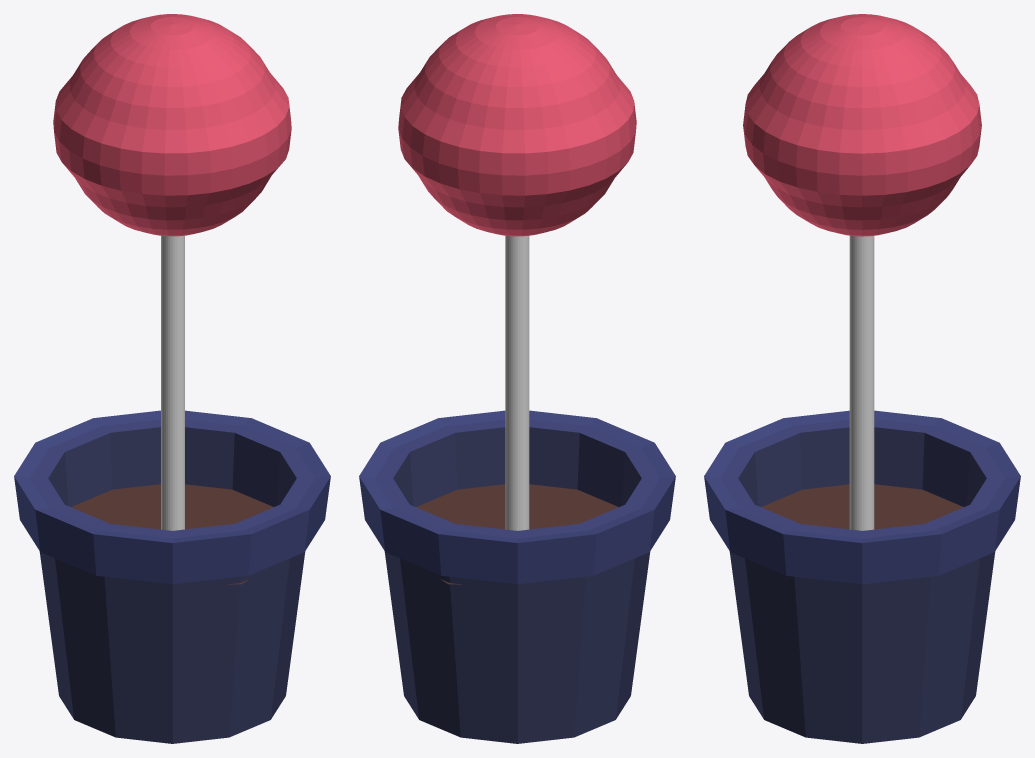
Rendered from celina_plant_template.fbx.
3 renders of one model, left to right at view 1: azimuth 30°, elevation 25°; view 2: azimuth 150°, elevation 25°; view 3: azimuth 270°, elevation 25°, orthographic.
Visible parts, largest first — view 1: Cylinder, Sphere, Cylinder.001, Plane; view 2: Cylinder, Sphere, Cylinder.001, Plane; view 3: Cylinder, Sphere, Cylinder.001, Plane.
Part boxes in pixels (x1,y1,x2,y2): Cylinder: [14, 410, 330, 743]; Sphere: [53, 14, 291, 236]; Cylinder.001: [161, 235, 184, 530]; Plane: [71, 484, 273, 584]; Cylinder: [359, 410, 675, 743]; Sphere: [398, 14, 636, 236]; Cylinder.001: [505, 235, 529, 530]; Plane: [416, 484, 618, 584]; Cylinder: [704, 410, 1020, 743]; Sphere: [743, 14, 981, 236]; Cylinder.001: [849, 235, 874, 530]; Plane: [761, 484, 963, 529].
Bounding box in the file's own units: 222 × 520 × 222.
